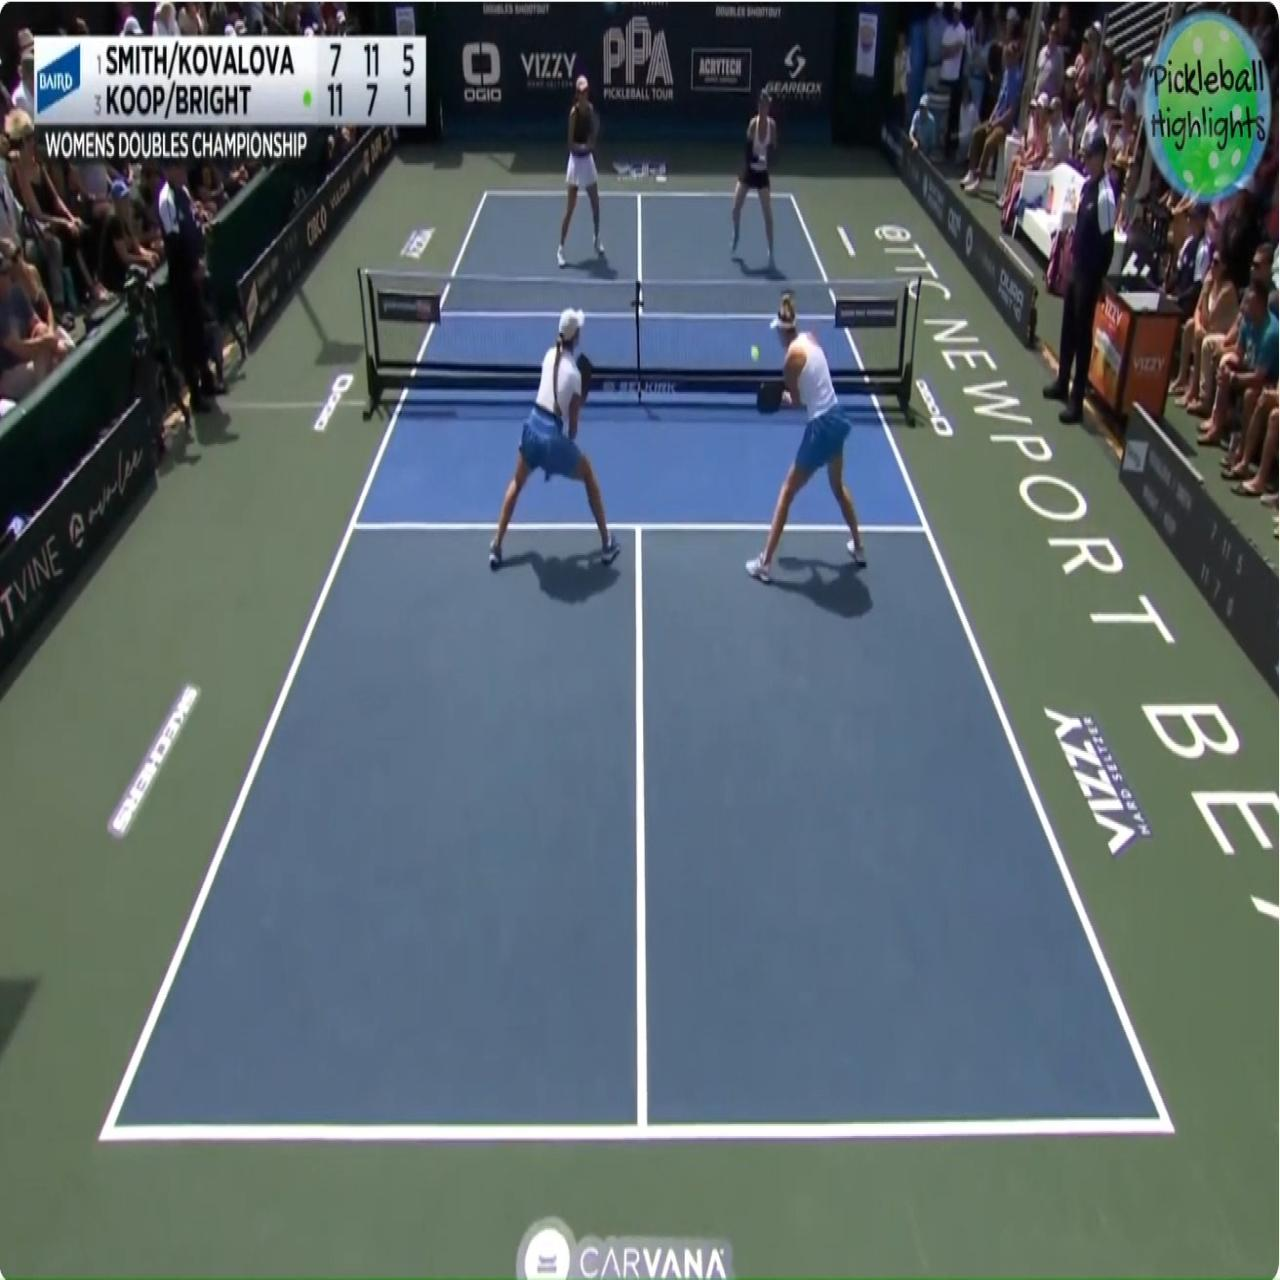pickleball: (750, 345, 760, 361)
